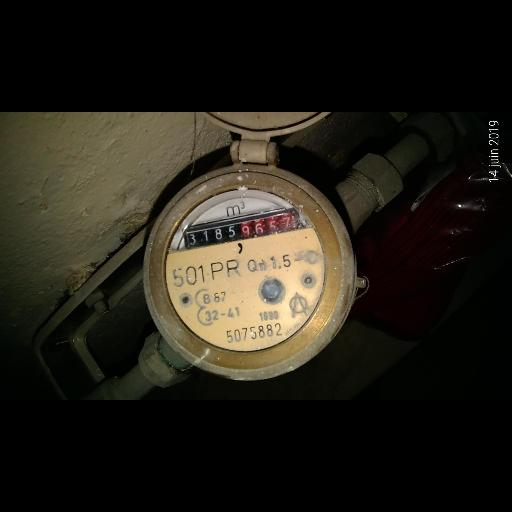1: (201, 230, 213, 247)
3: (187, 232, 200, 249)
5: (225, 224, 239, 242), (267, 217, 280, 234)
6: (254, 219, 266, 238)
7: (280, 213, 294, 231)
8: (212, 227, 227, 245)
9: (241, 222, 254, 240)
border_water_meter_number: (181, 206, 300, 251)
